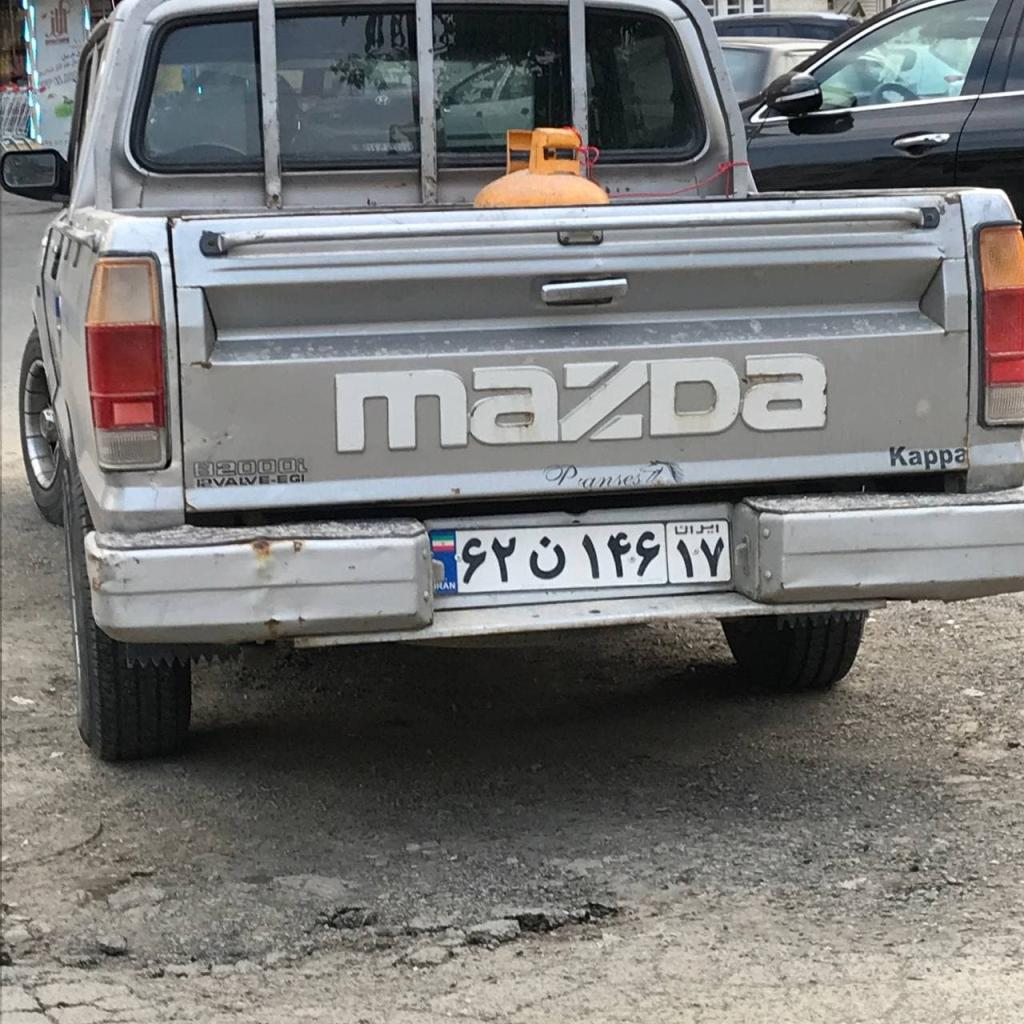Plates: (429, 520, 732, 596)
